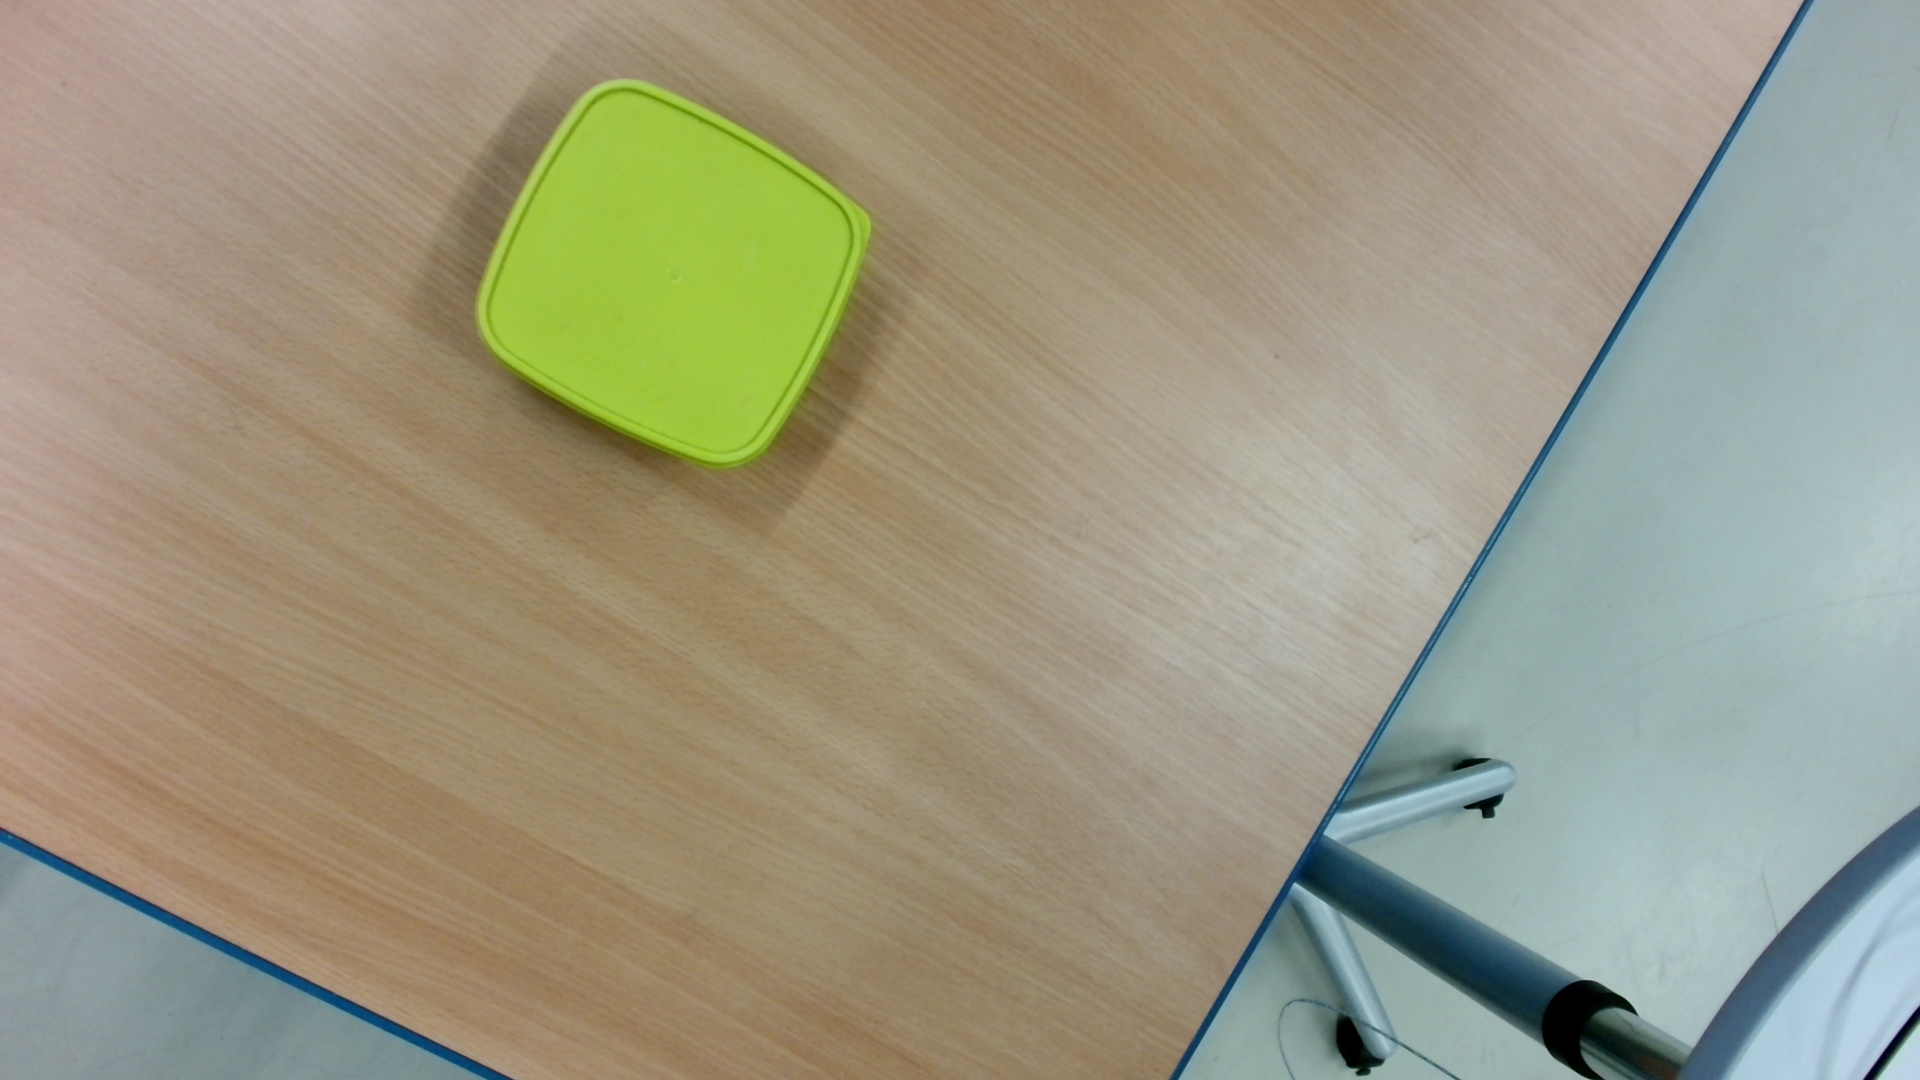Box: (468, 73, 887, 473)
